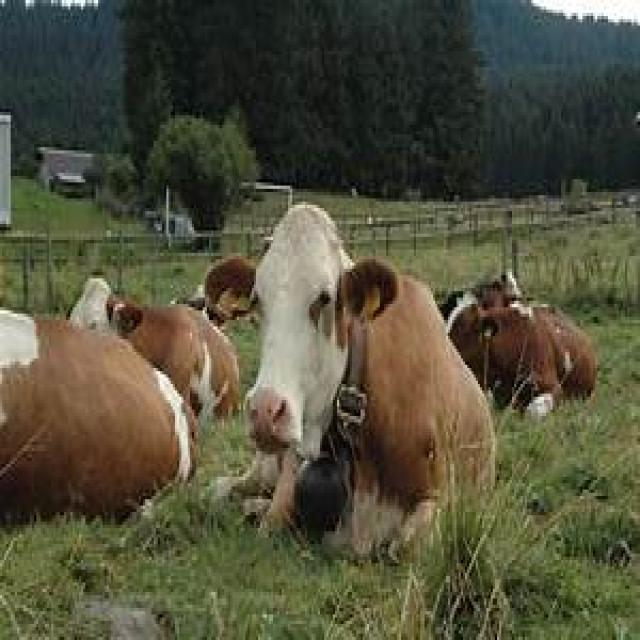cow: (243, 205, 497, 563), (0, 314, 201, 528)
